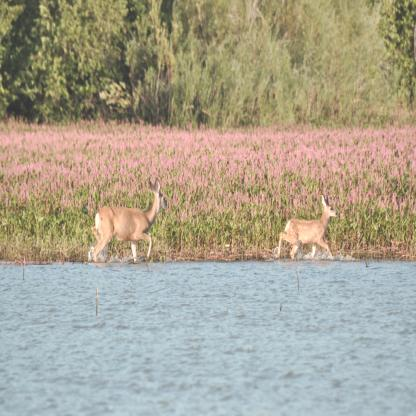Deer: (88, 174, 167, 279), (274, 195, 340, 266)
